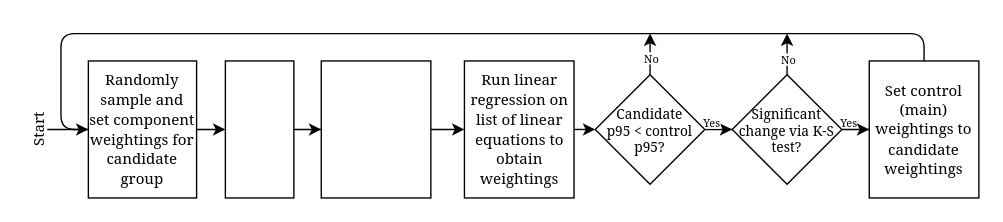
Image size: 1003x222. Some labels were removed from this diagram. The shapes that lost their labels are listed below. From the top down, each one's box as (x1, y1, x2, y2) in pixels, then its label:
(224, 60, 294, 198): Wait two minutes
(320, 60, 431, 198): Retrieve response time distributions of control and candidate groups
